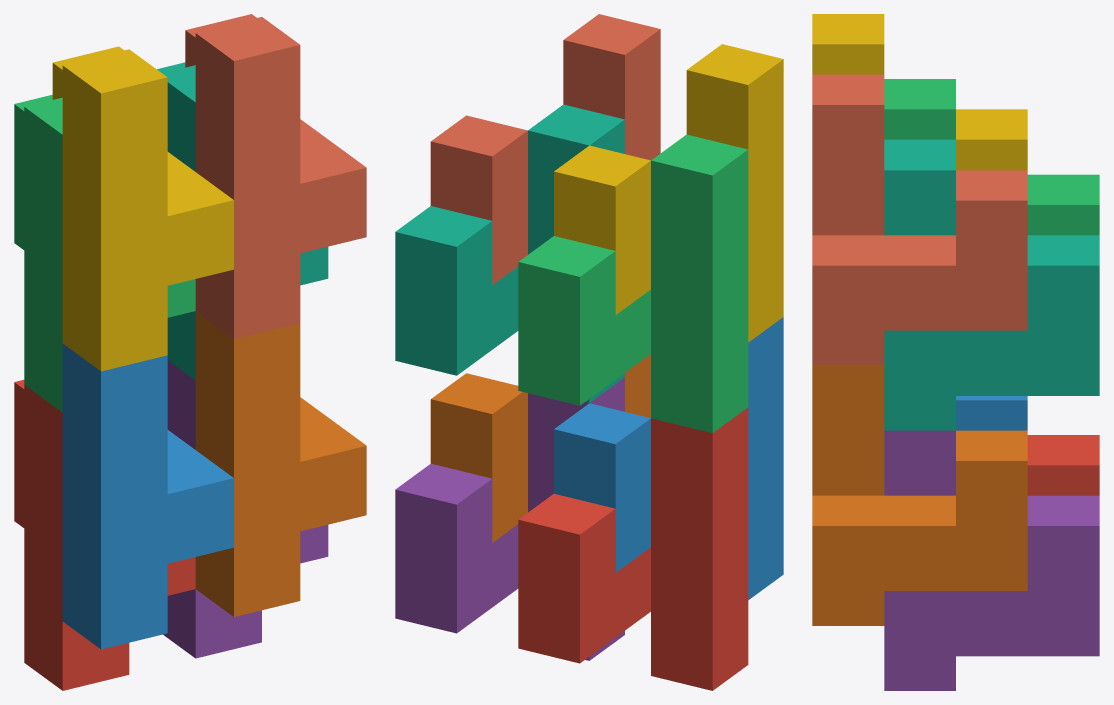
File: tiling.obj
3 renders of one model, left to right at view 1: azimuth 30°, elevation 25°; view 2: azimuth 150°, elevation 25°; view 3: azimuth 270°, elevation 25°, orthographic. The views are drawn at different scales.
Visible parts, largest first — view 1: copy_1_domain_4, copy_1_domain_2, copy_1_domain_8, copy_1_domain_6, copy_1_domain_1, copy_1_domain_3, copy_1_domain_5, copy_1_domain_7; view 2: copy_1_domain_3, copy_1_domain_1, copy_1_domain_4, copy_1_domain_7, copy_1_domain_8, copy_1_domain_5, copy_1_domain_2, copy_1_domain_6; view 3: copy_1_domain_8, copy_1_domain_6, copy_1_domain_7, copy_1_domain_5, copy_1_domain_4, copy_1_domain_3, copy_1_domain_1, copy_1_domain_2.
Part boxes in pixels (x1,y1,x2,y2): copy_1_domain_4: [52, 46, 233, 371]; copy_1_domain_2: [62, 343, 233, 649]; copy_1_domain_8: [185, 14, 366, 338]; copy_1_domain_6: [195, 311, 366, 616]; copy_1_domain_1: [14, 379, 195, 690]; copy_1_domain_3: [14, 94, 195, 412]; copy_1_domain_5: [163, 360, 328, 658]; copy_1_domain_7: [157, 62, 328, 380]; copy_1_domain_3: [518, 134, 748, 432]; copy_1_domain_1: [518, 407, 748, 690]; copy_1_domain_4: [554, 44, 783, 342]; copy_1_domain_7: [395, 104, 624, 402]; copy_1_domain_8: [430, 14, 660, 284]; copy_1_domain_5: [395, 377, 624, 660]; copy_1_domain_2: [554, 317, 783, 599]; copy_1_domain_6: [430, 354, 650, 542]; copy_1_domain_8: [812, 74, 1027, 365]; copy_1_domain_6: [812, 365, 1027, 625]; copy_1_domain_7: [884, 139, 1099, 430]; copy_1_domain_5: [884, 430, 1099, 690]; copy_1_domain_4: [812, 14, 1027, 170]; copy_1_domain_3: [884, 79, 1099, 235]; copy_1_domain_1: [1027, 435, 1099, 495]; copy_1_domain_2: [956, 396, 1027, 430].
Size of the model in its own units: 4 by 9 by 4.
